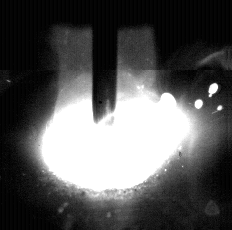arame: (93, 0, 117, 124)
poca: (42, 0, 183, 230)
